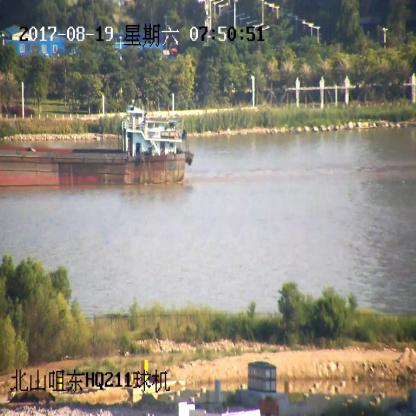Bulk Carrier: (0, 106, 191, 186)
